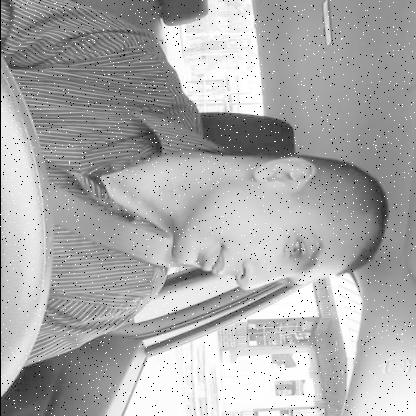seatbelt: (0, 98, 384, 316)
